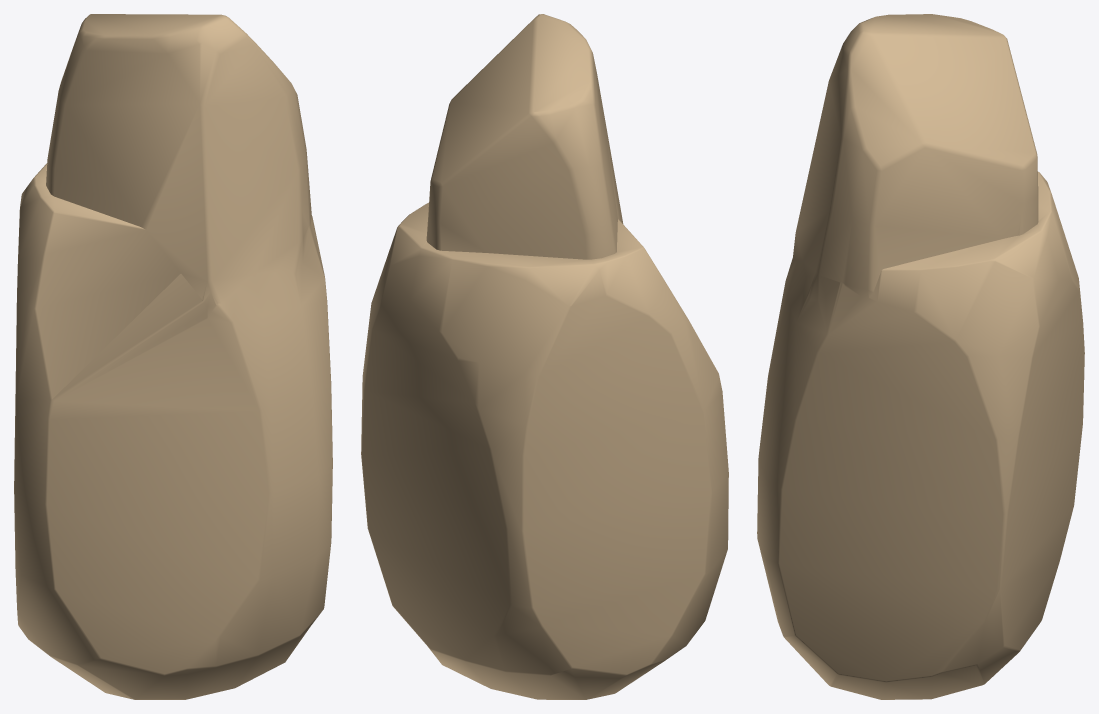
Rendered from rock_stack_03.glb.
3 renders of one model, left to right at view 1: azimuth 30°, elevation 25°; view 2: azimuth 150°, elevation 25°; view 3: azimuth 270°, elevation 25°, orthographic. The views are drawn at different scales.
Parts seen in each view (by area): view 1: rock_stack_03; view 2: rock_stack_03; view 3: rock_stack_03.
Part boxes in pixels (x1,y1,x2,y2): rock_stack_03: (14,14,332,699); rock_stack_03: (361,14,728,699); rock_stack_03: (757,14,1084,699).
Bounding box in the file's own units: 2.5 × 5.13 × 2.31.
